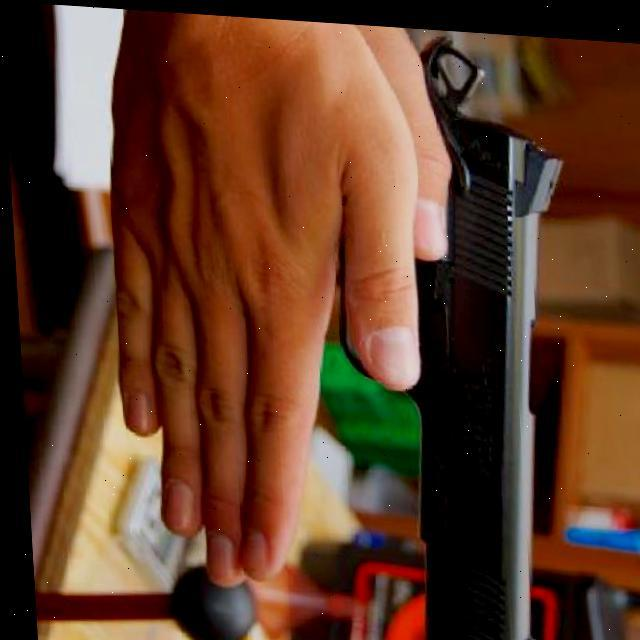gun: (296, 16, 590, 640)
